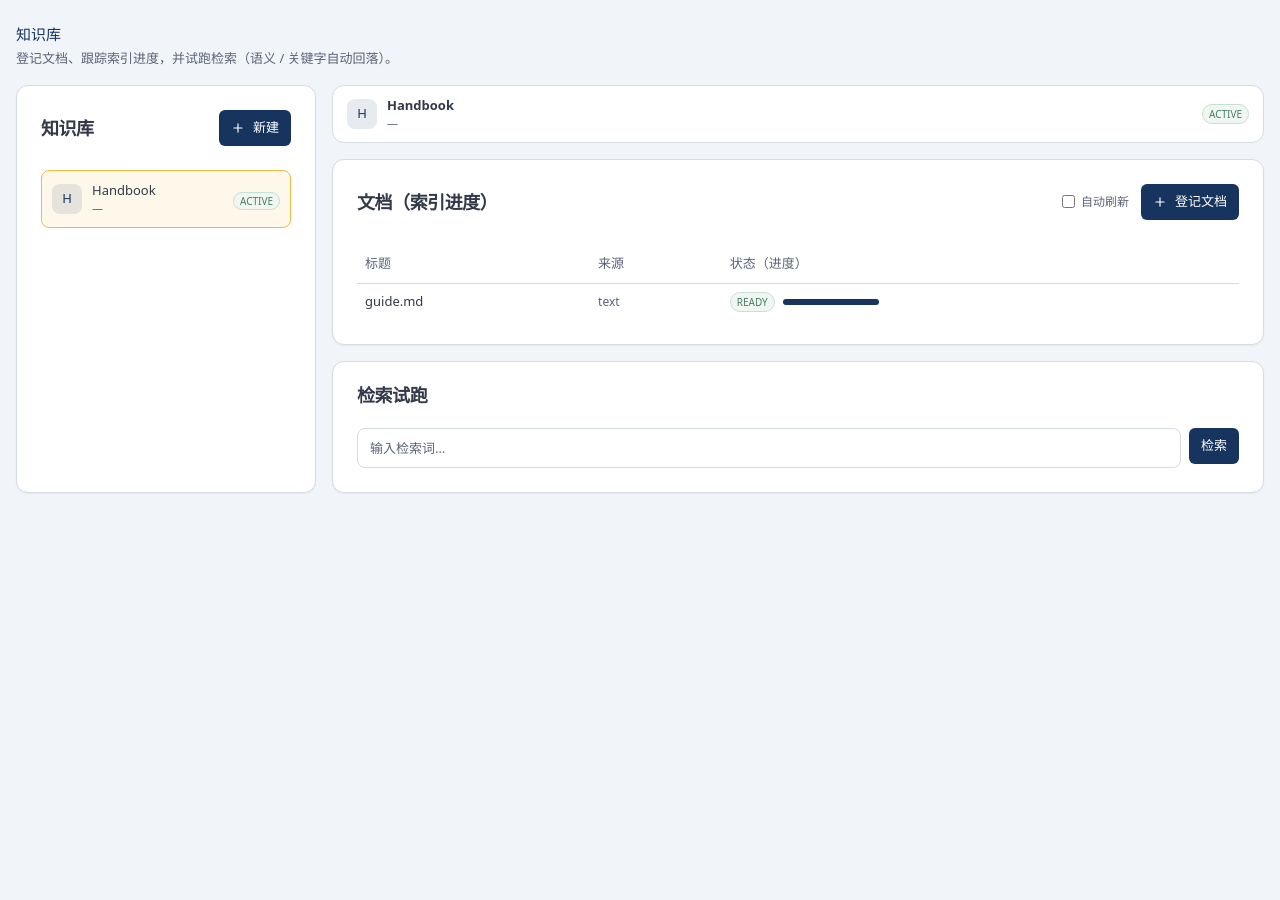
KnowledgeManager › 登记弹窗：打开 → 标题必填校验 → 提交成功反馈
Check: the text "READY" is shown, box [730,292,775,312]
Click the button with test id "doc-register-open".
click(1190, 202)  # box [1141,184,1239,220]
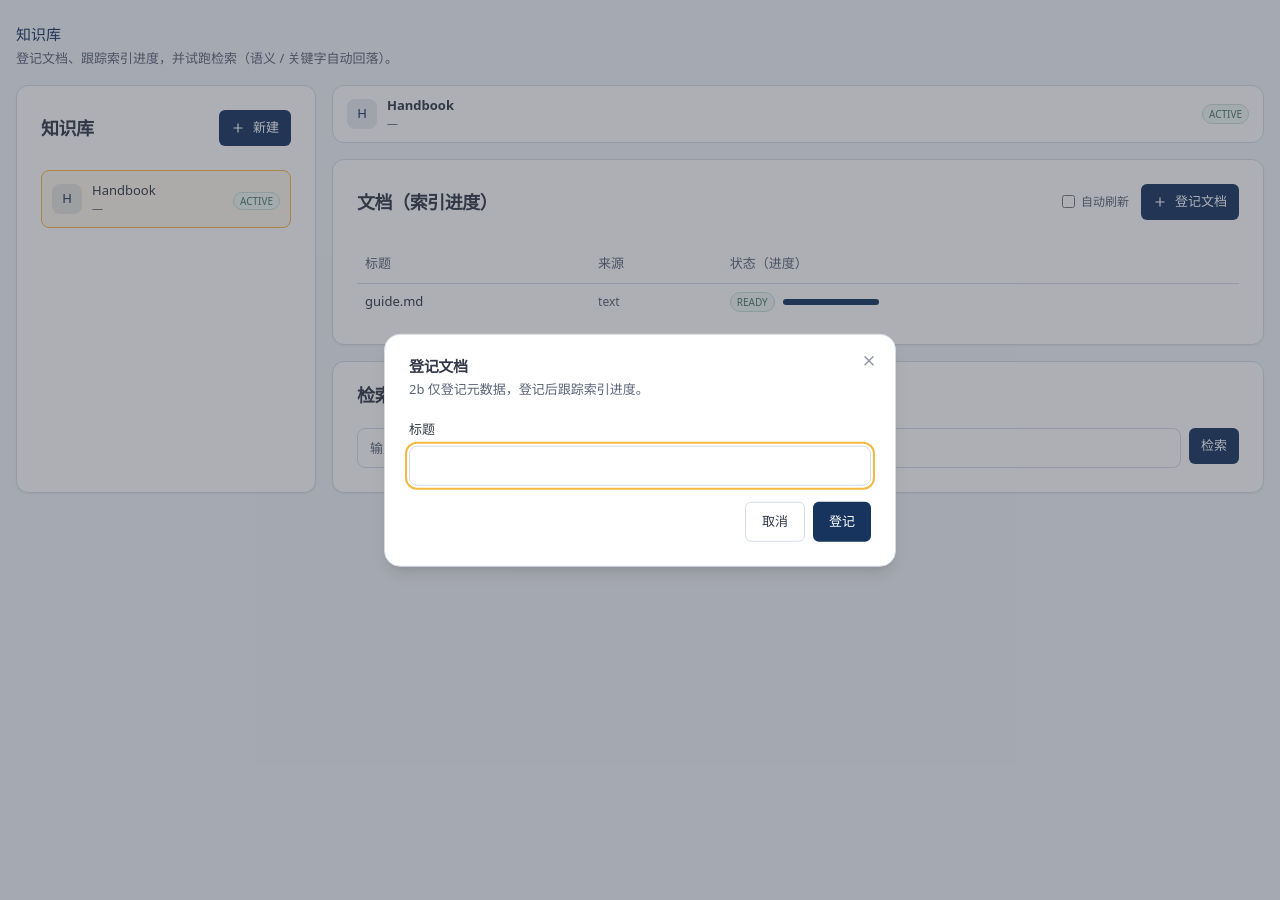
Check: the dialog with test id "doc-register-dialog" shows "2b 仅登记元数据", box [409,380,649,398]
Click the button with test id "doc-create-submit".
click(842, 521)  # box [813,501,871,541]
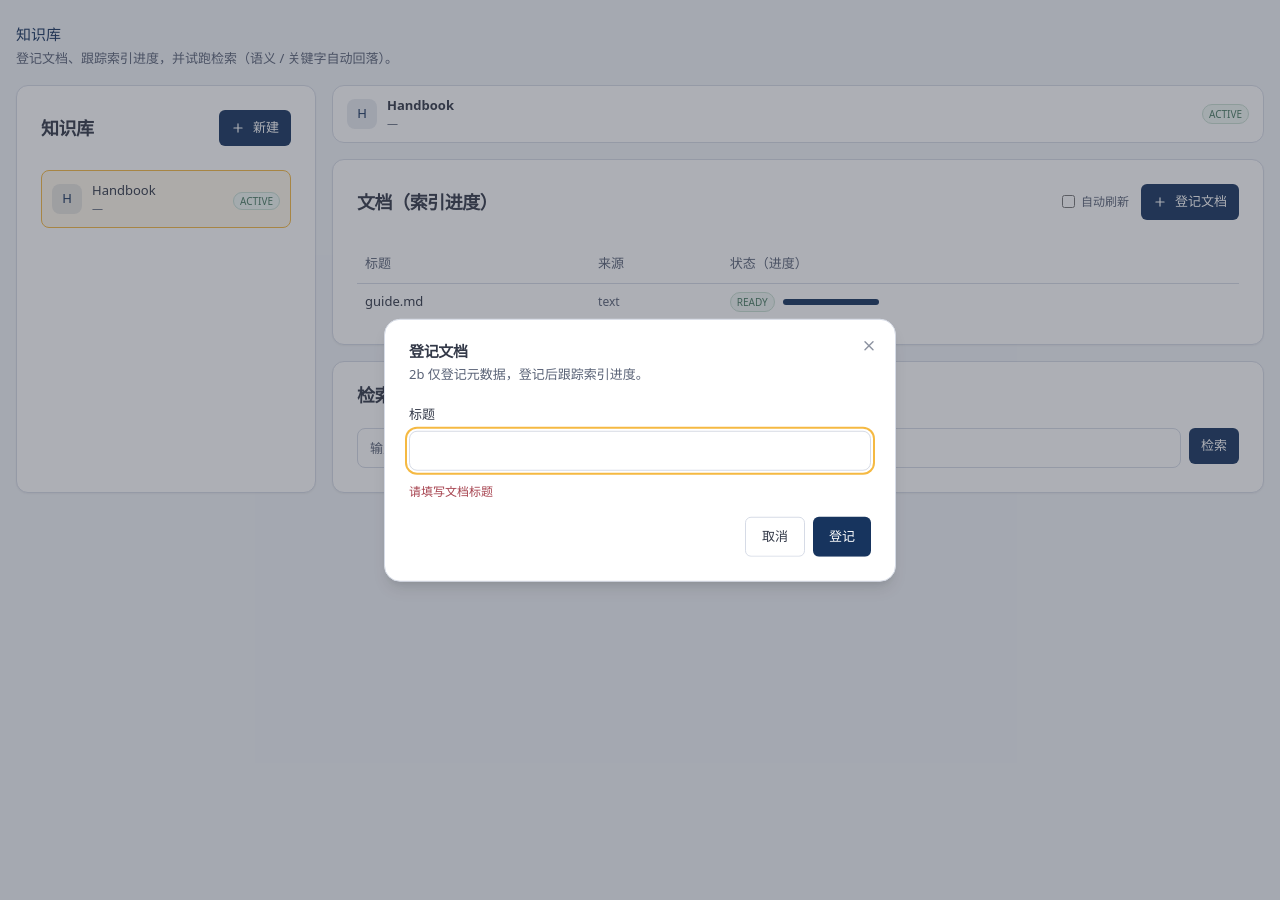
Check: the text with test id "doc-register-error" reads "请填写文档标题", box [409,482,493,499]
Type "版本发布说明" into the field with test id "doc-title-input".
click(640, 450); type("版本发布说明")  # box [409,430,871,470]
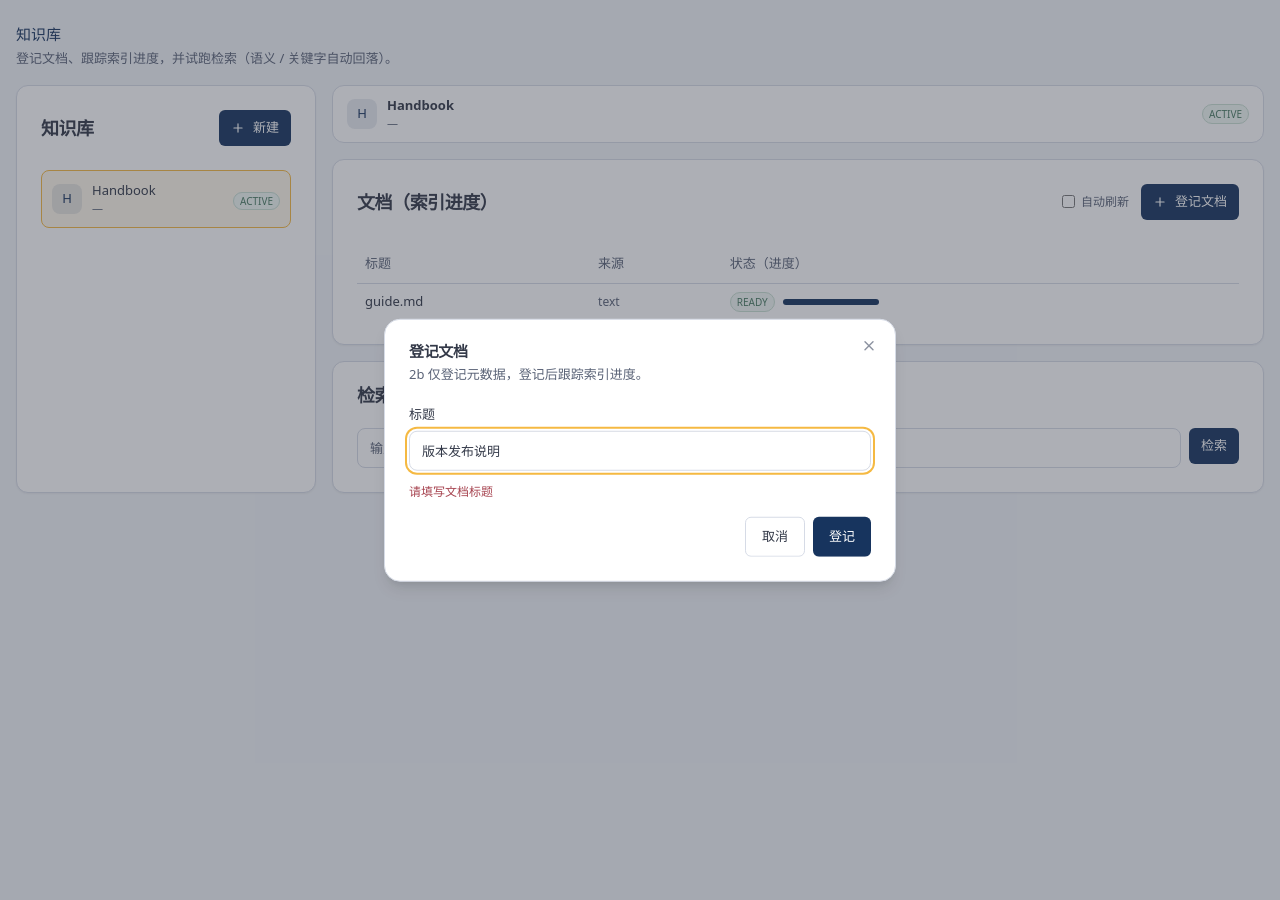
Click the button with test id "doc-create-submit".
click(842, 536)  # box [813,516,871,556]
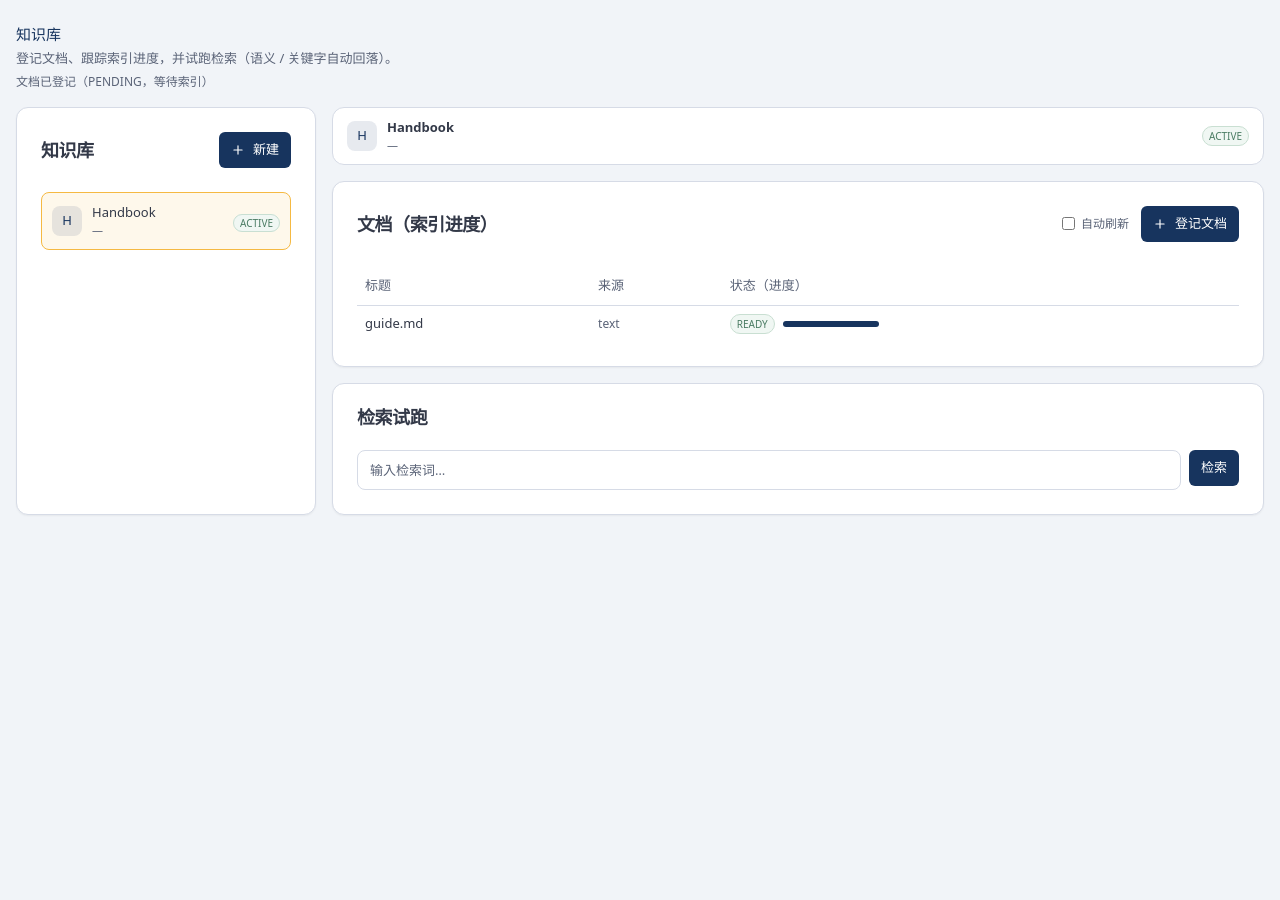
Check: the dialog with test id "doc-register-dialog" is gone
Check: the text with test id "knowledge-feedback" reads "文档已登记（PENDING，等待索引）", box [16,72,214,90]
